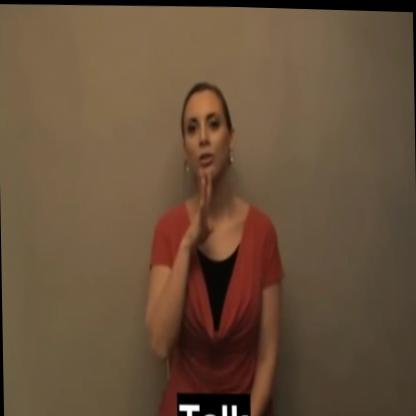Talk: (163, 68, 250, 269)
